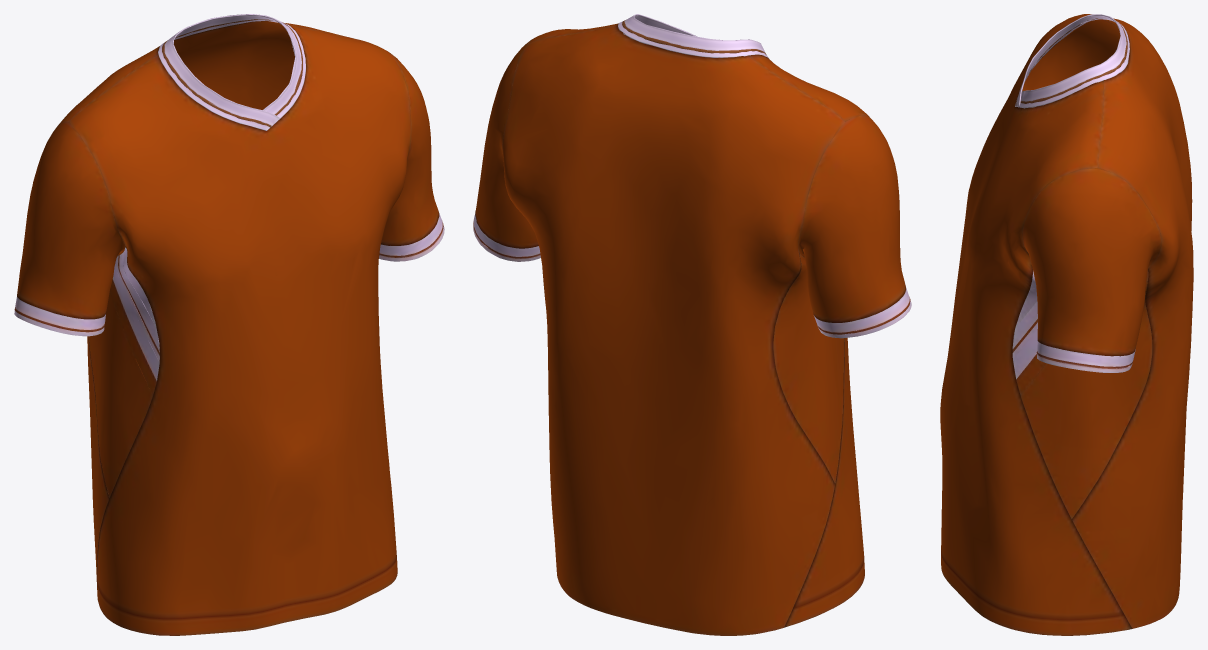
The model's file is camiseta-futbol-naranja-lite.glb.
3 views of the same model, side by side, from view 1: azimuth 30°, elevation 25°; view 2: azimuth 150°, elevation 25°; view 3: azimuth 270°, elevation 25° (orthographic). The views are drawn at different scales.
Parts seen in each view (by area): view 1: Object_2, Object_5; view 2: Object_2, Object_5; view 3: Object_2, Object_5.
Boxes of the visible parts, x1,y1,x2,y2 form: Object_2: (14,19,443,635); Object_5: (14,14,444,380); Object_2: (473,20,910,635); Object_5: (473,14,911,338); Object_2: (940,14,1193,635); Object_5: (1012,14,1135,379).
Bounding box in the file's own units: 0.5505 × 0.6997 × 0.2952.
Materials: 2 (2 with a texture image).
